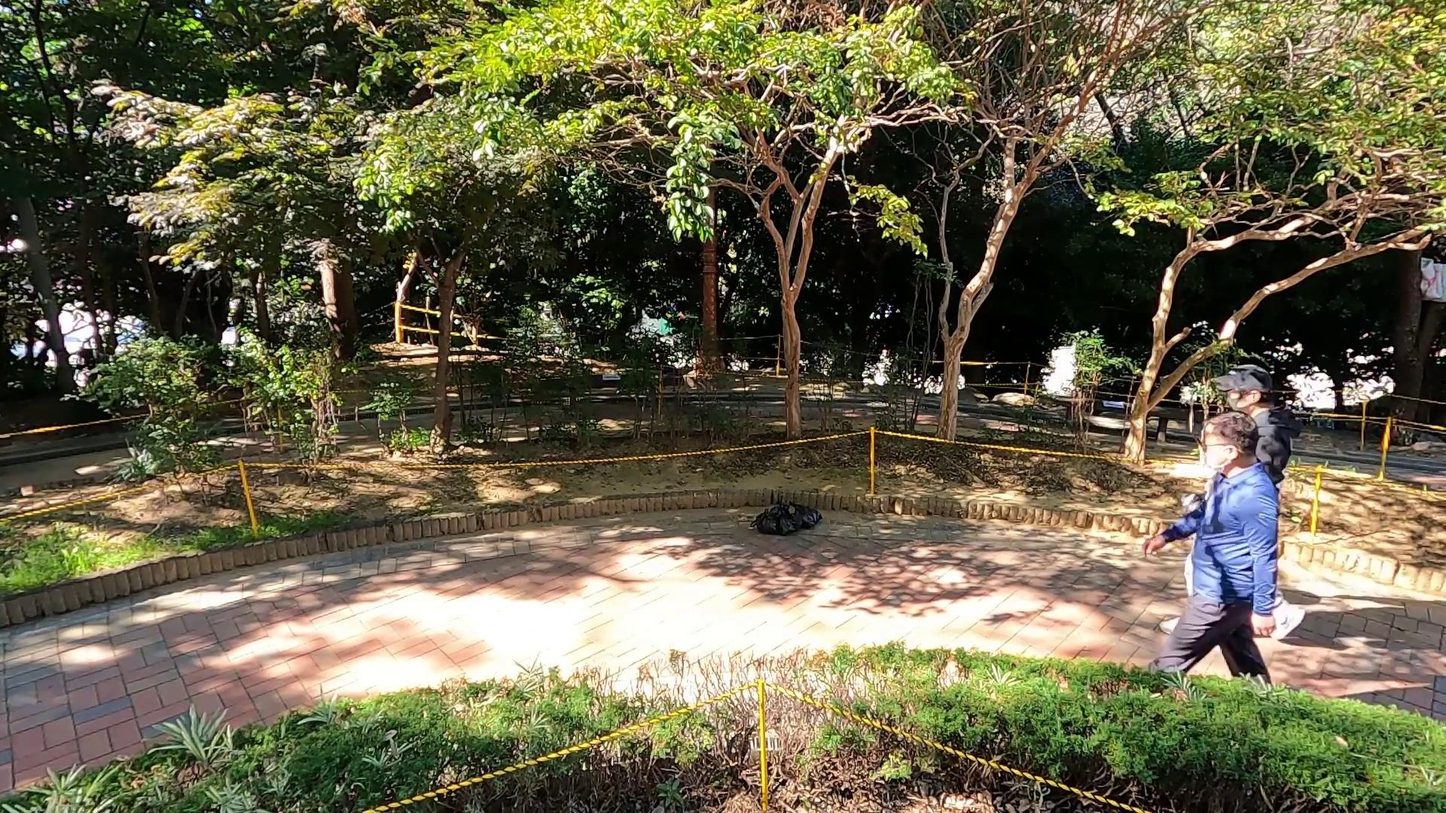person: (1131, 410, 1291, 688), (1180, 368, 1301, 655)
trash: (764, 494, 793, 527), (751, 506, 780, 536), (791, 502, 822, 529), (777, 501, 801, 534)
